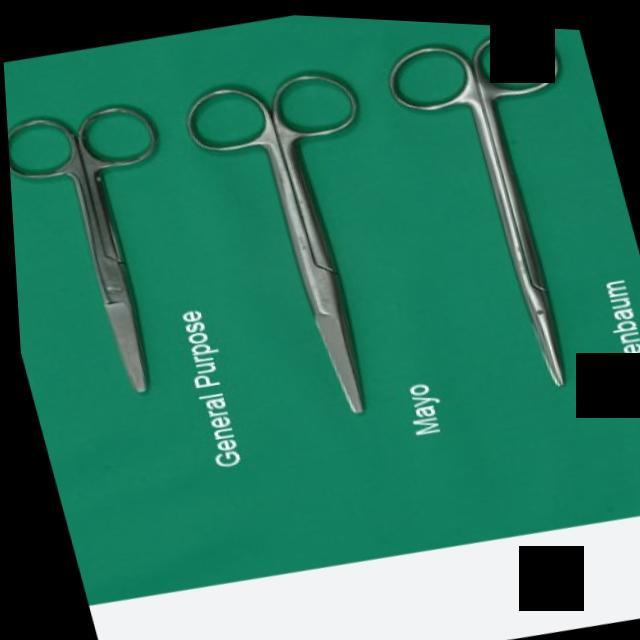Metzenbaum Sciccors: (366, 15, 640, 408)
Straight Mayo: (169, 46, 445, 439)
